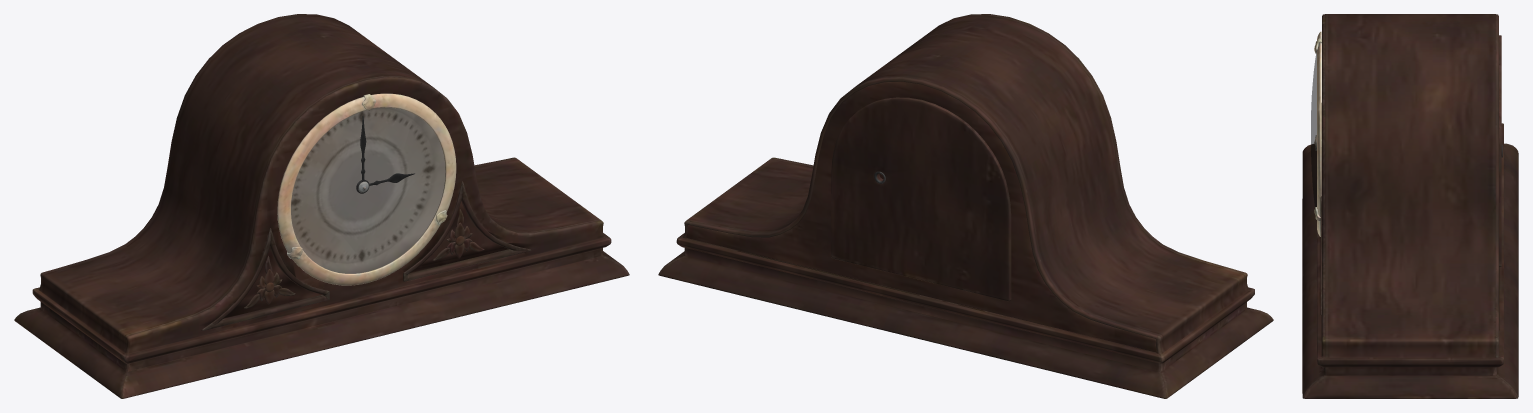
File: mantel_clock_01.glb
3 views of the same model, side by side, from view 1: azimuth 30°, elevation 25°; view 2: azimuth 150°, elevation 25°; view 3: azimuth 270°, elevation 25° (orthographic).
Parts seen in each view (by area): view 1: mantel_clock_01, mantel_clock_01_glass; view 2: mantel_clock_01; view 3: mantel_clock_01, mantel_clock_01_glass.
Boxes of the visible parts, x1,y1,x2,y2 form: mantel_clock_01: (14,14,629,398); mantel_clock_01_glass: (291,107,445,273); mantel_clock_01: (658,14,1273,398); mantel_clock_01: (1302,14,1518,398); mantel_clock_01_glass: (1311,53,1316,207).
Bounding box in the file's own units: 0.3423 × 0.1605 × 0.1262.
2 materials, 2 textured.
